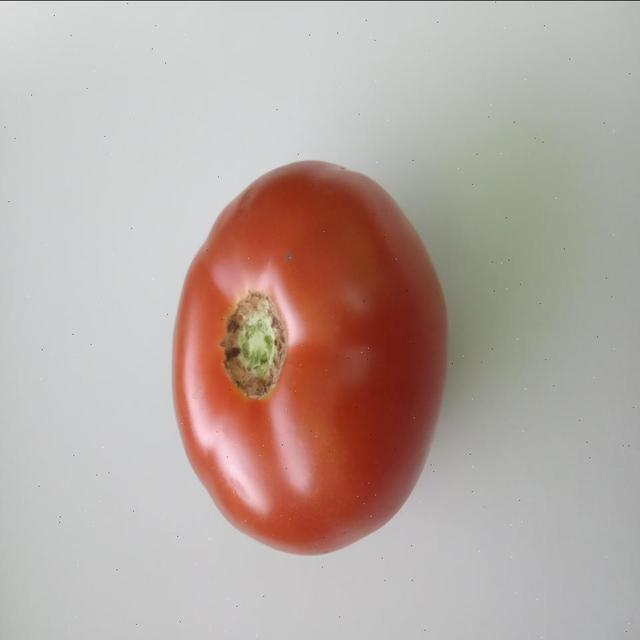Healthy Fruit: (111, 97, 302, 377)
